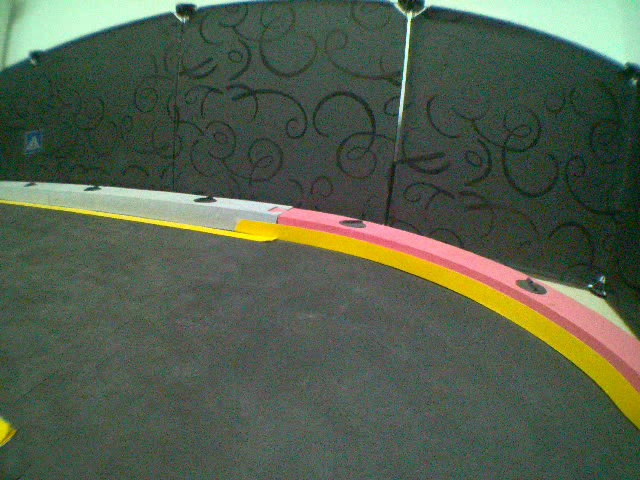crossing: (23, 128, 42, 156)
